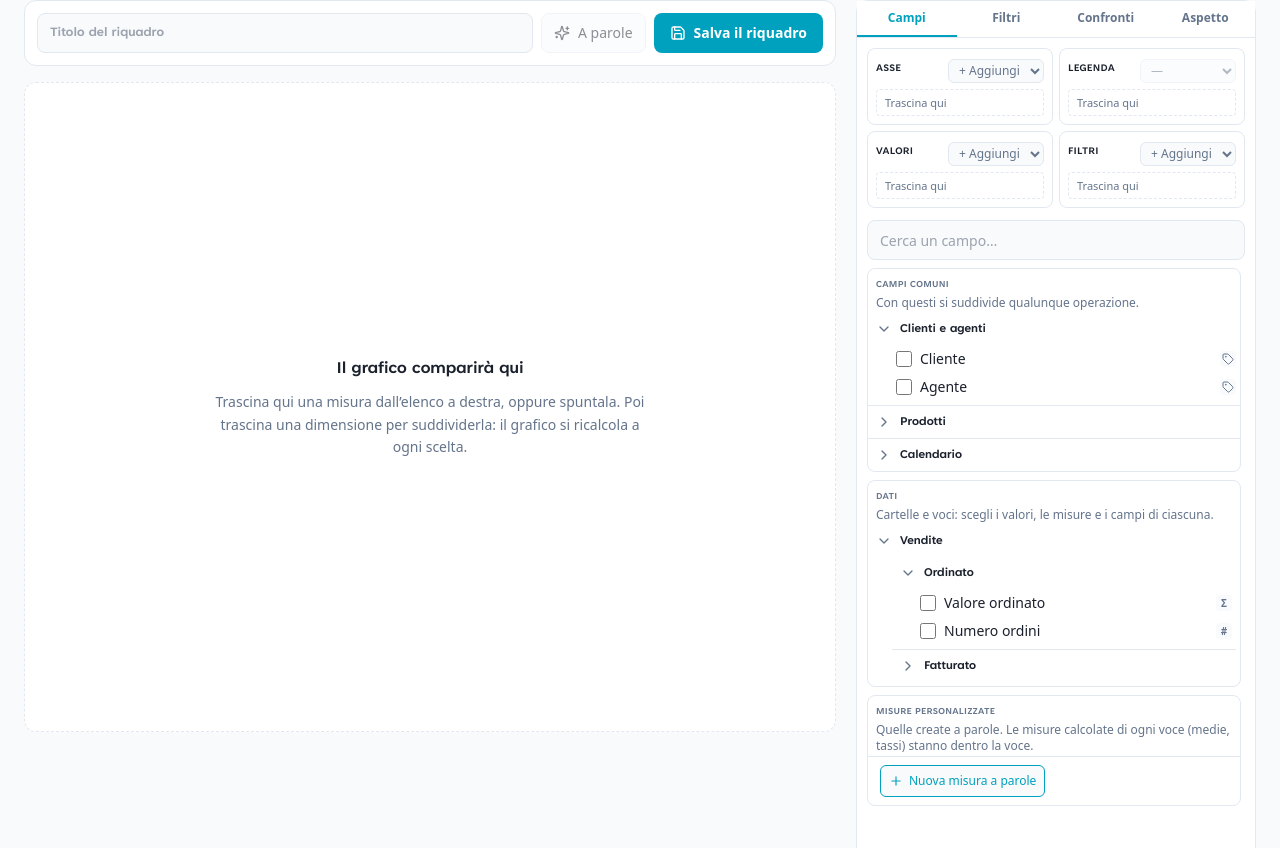
«Nuova misura a parole» › dal pulsante dell'albero, salvare una misura la mette subito in uso nel riquadro
Step 1. Click the button "Nuova misura a parole" → x=963, y=781, box [880,765,1045,797]
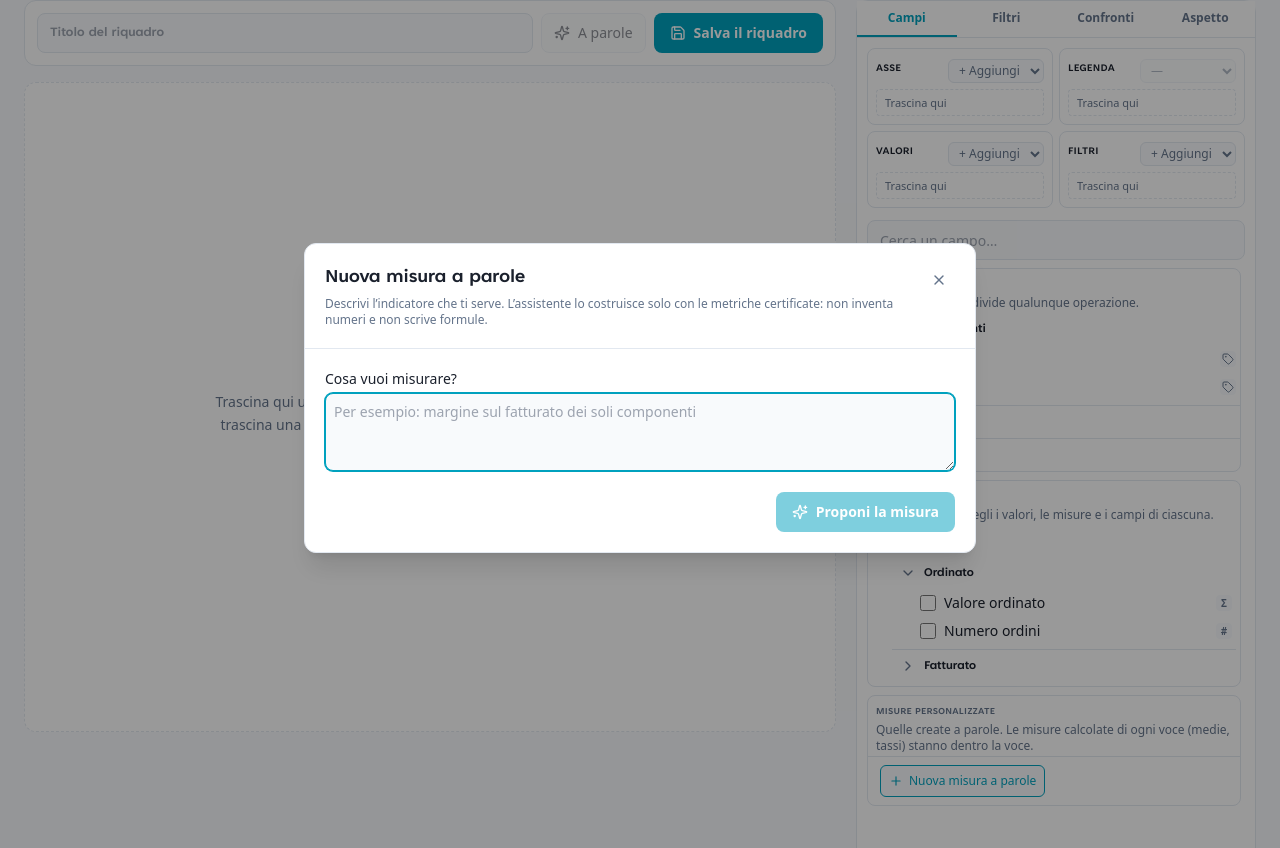
Step 2. Type "margine sul fatturato dei soli componenti" into the text box labelled "Cosa vuoi misurare?" → x=640, y=432, box [325,393,955,471]
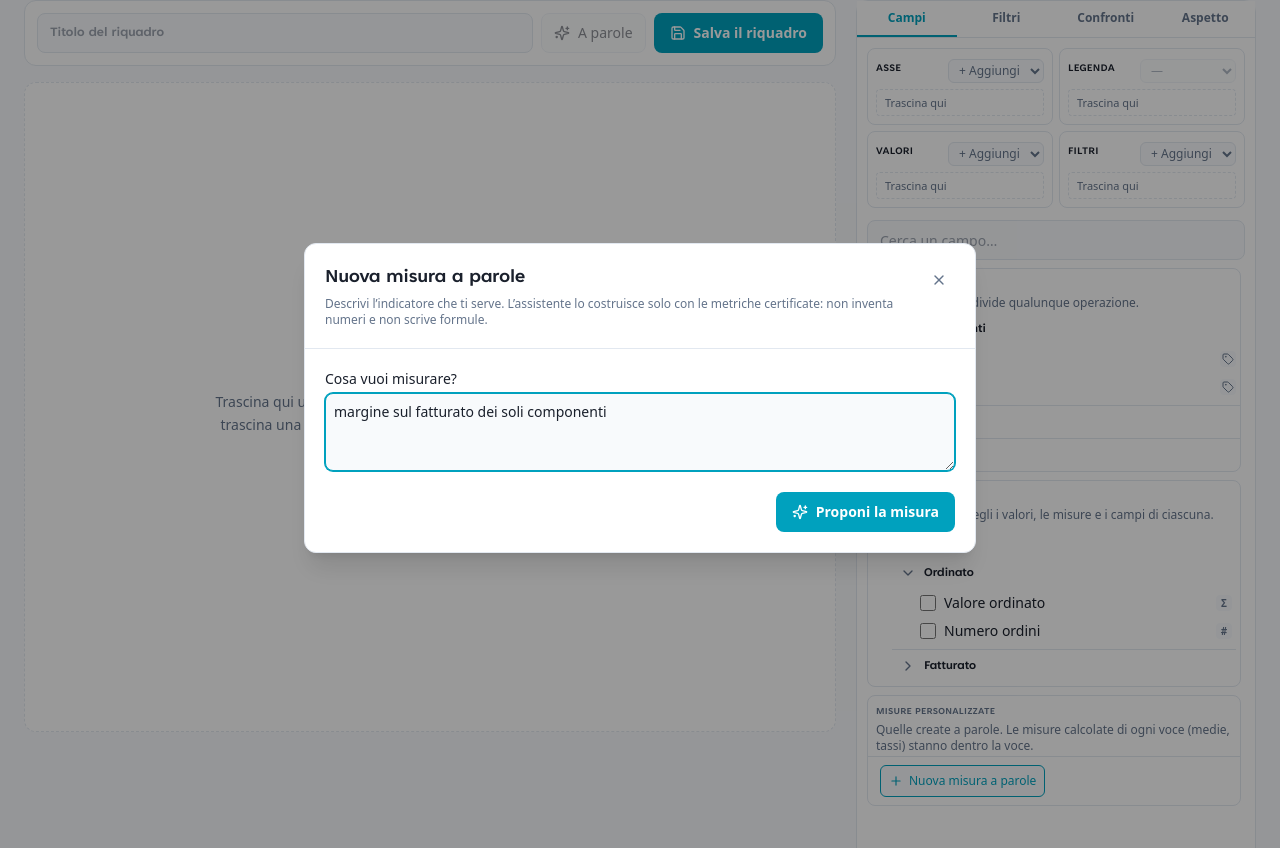
Step 3. Click the button "Proponi la misura" → x=865, y=512, box [776,492,955,532]
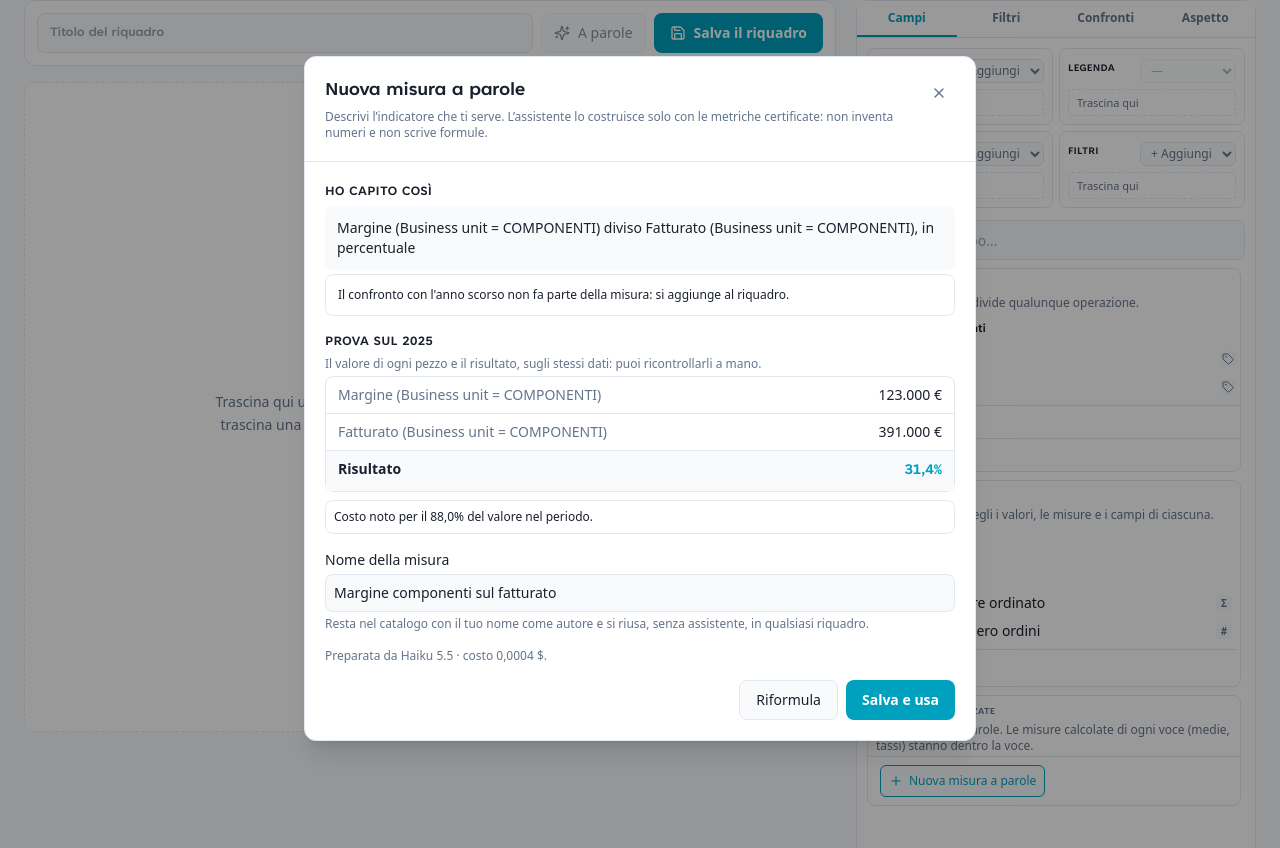
Step 4. Click the button "Salva e usa" → x=900, y=700, box [846,680,955,720]
Wait 400 ms
(page scrolled)
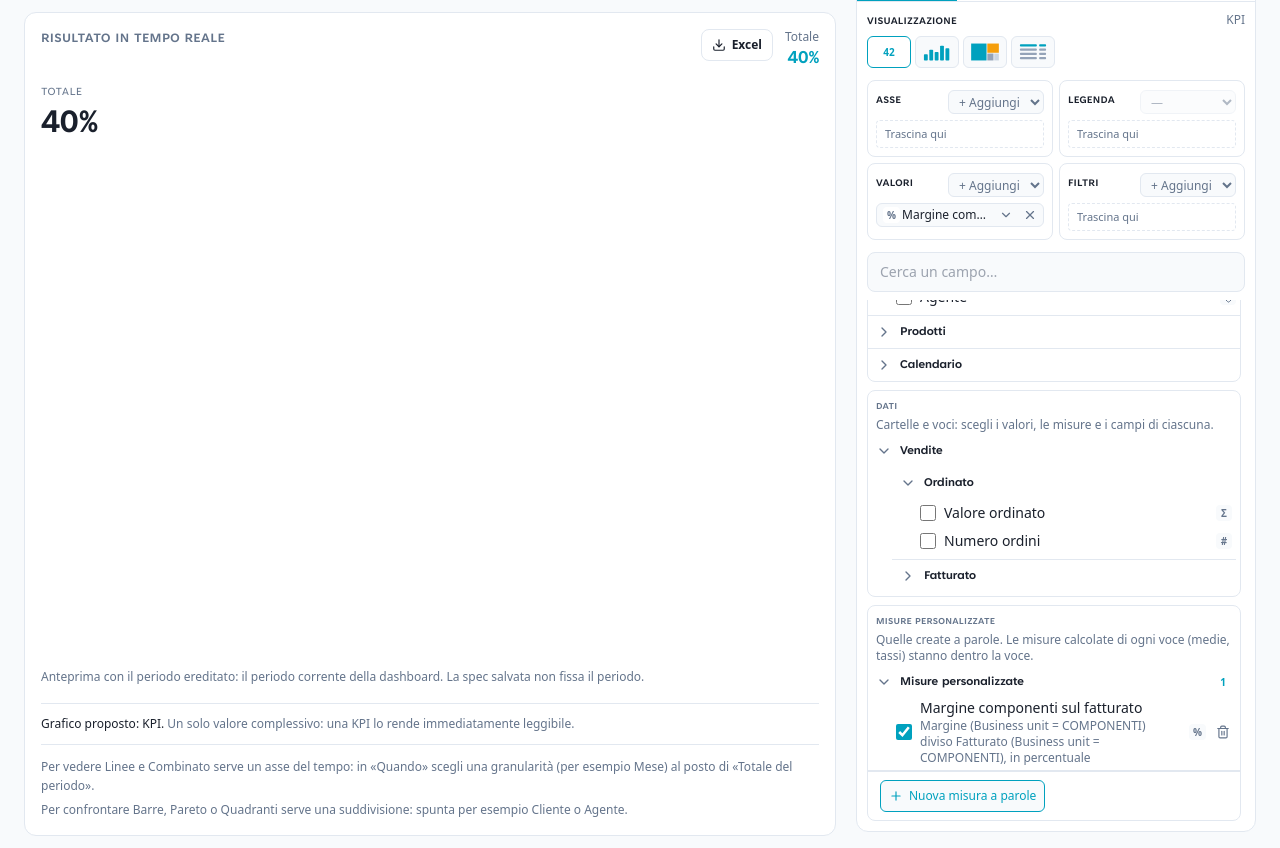
Expected: the text "Margine componenti sul fatturato" below "Legenda" is shown, [902,206,1093,223]
Expected: the checkbox labelled "Margine componenti sul fatturato" is checked, [896,724,912,740]
